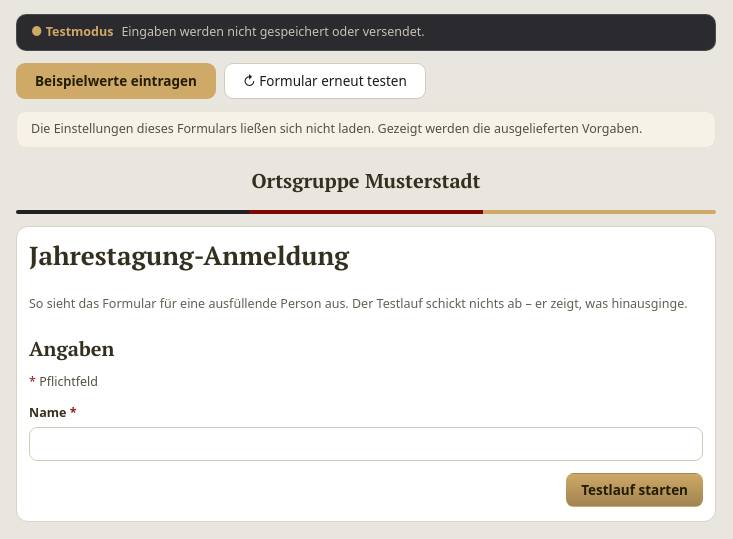
PreviewView — Beispielwerte › trägt gültige Werte in die Felder ein
Check: the field labelled "Name *" is empty, box [29,427,703,461]
What coordinates should you click on to do the following:
click the button "Beispielwerte eintragen"
I would click on:
 (116, 81)
Its box is [16,63,216,99].
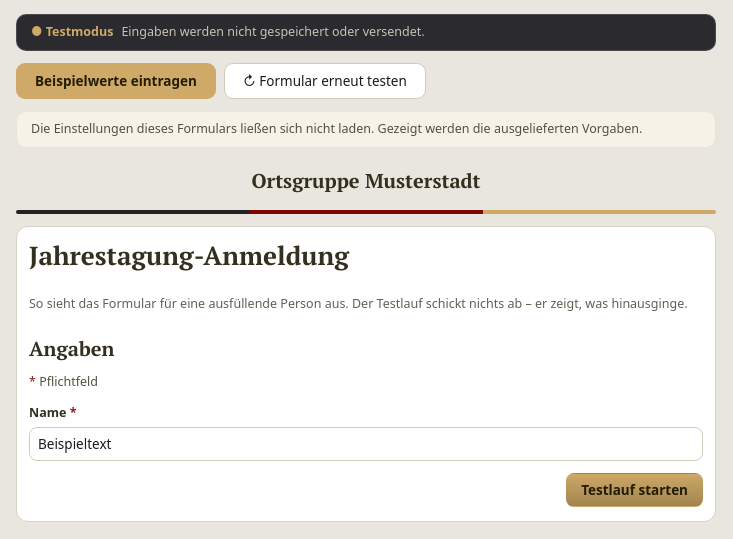
Check: the field labelled "Name *" holds "Beispieltext", box [29,427,703,461]
